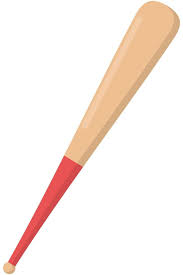baseball bat: (1, 1, 181, 273)
